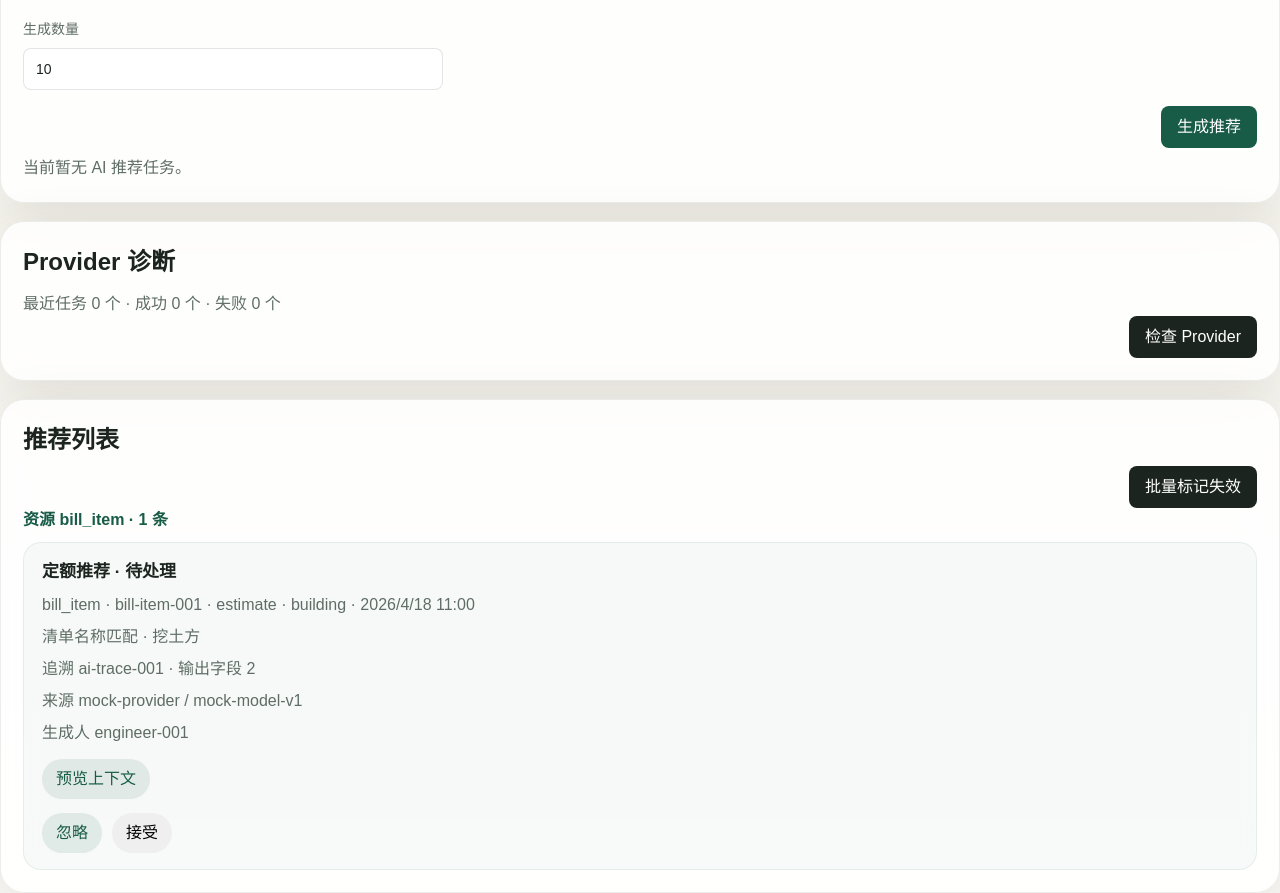
Test case: ProjectAiRecommendationsPage › renders recommendations and accepts a generated item after confirmation
(page scrolled)
Check: the heading "定额推荐 · 待处理" is shown, box top-left (42, 562), bottom-right (176, 581)
Check: the text "清单名称匹配 · 挖土方" is shown, box top-left (42, 628), bottom-right (200, 644)
Click the button "接受": x=142, y=832 top-left (112, 812), bottom-right (172, 852)
(page scrolled)
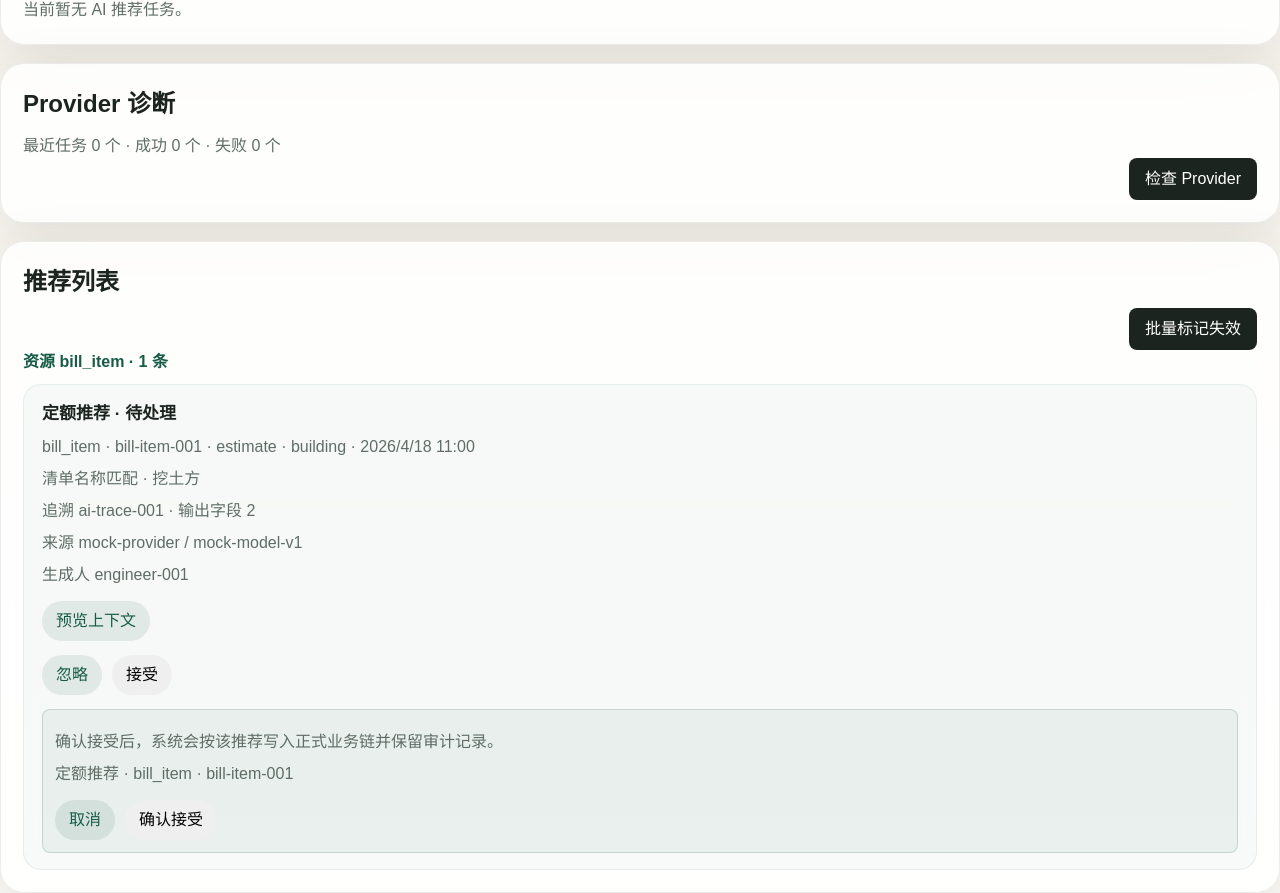
Check: the dialog named "确认接受 AI 推荐" is shown, box top-left (42, 708), bottom-right (1238, 852)
Check: the text "确认接受后，系统会按该推荐写入正式业务链并保留审计记录。" is shown, box top-left (55, 732), bottom-right (503, 750)
Click the button "确认接受": x=171, y=820 top-left (125, 800), bottom-right (217, 840)
(page scrolled)
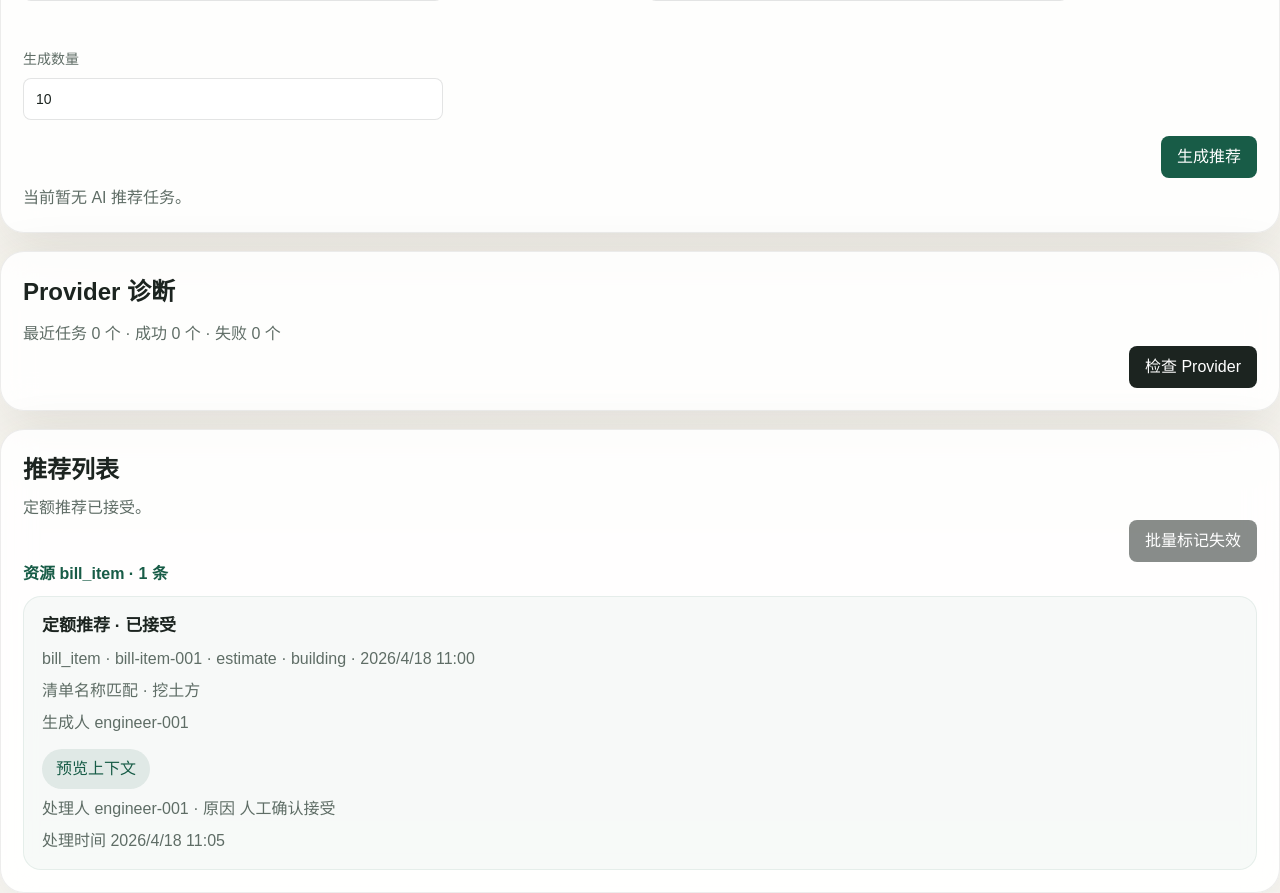
Check: the text "定额推荐已接受。" is shown, box top-left (23, 499), bottom-right (151, 516)
Check: the heading "定额推荐 · 已接受" is shown, box top-left (42, 616), bottom-right (176, 635)
Check: the text "处理人 engineer-001 · 原因 人工确认接受" is shown, box top-left (42, 800), bottom-right (336, 816)
